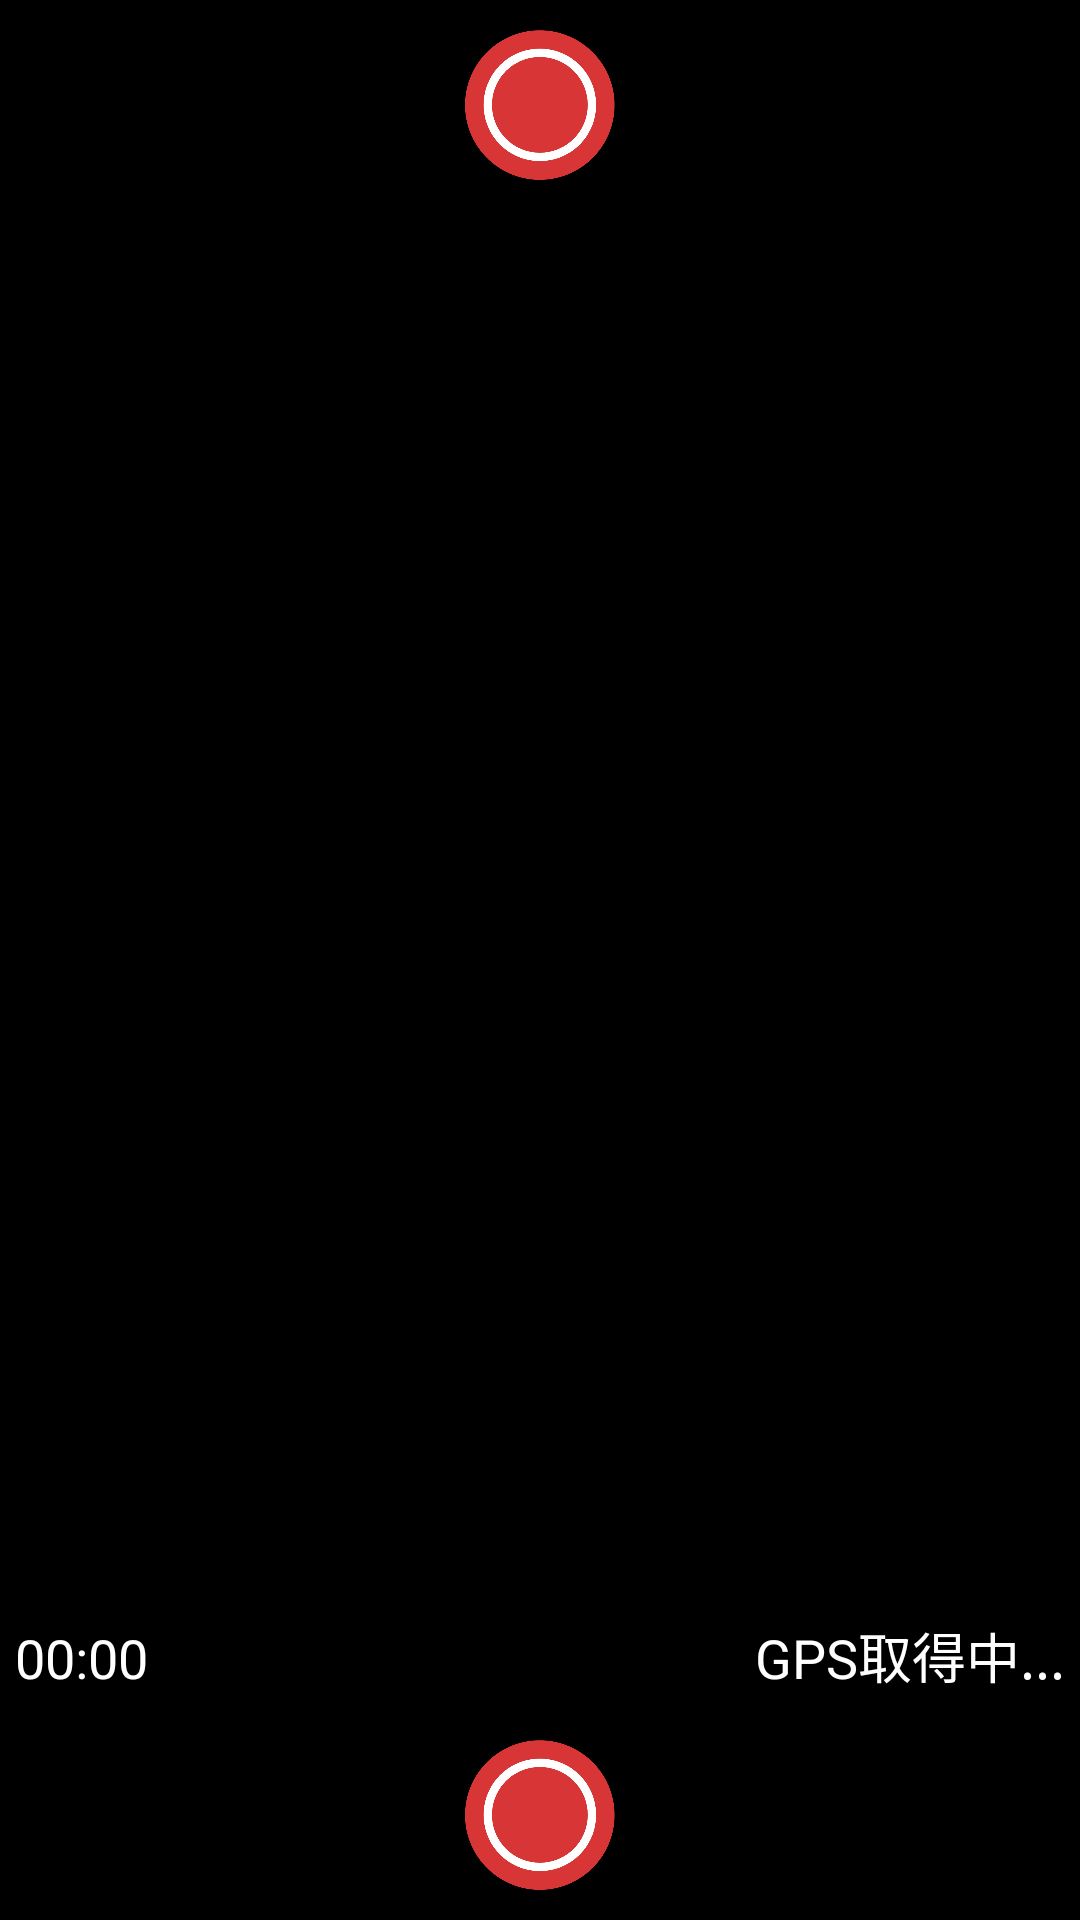

Icons on this 1080 x 1920 Android screen, each with its box as {"left": x1, "top": y1, "right": x2, "bottom": y2}:
rec start: {"left": 465, "top": 30, "right": 615, "bottom": 180}, {"left": 465, "top": 1740, "right": 615, "bottom": 1890}
